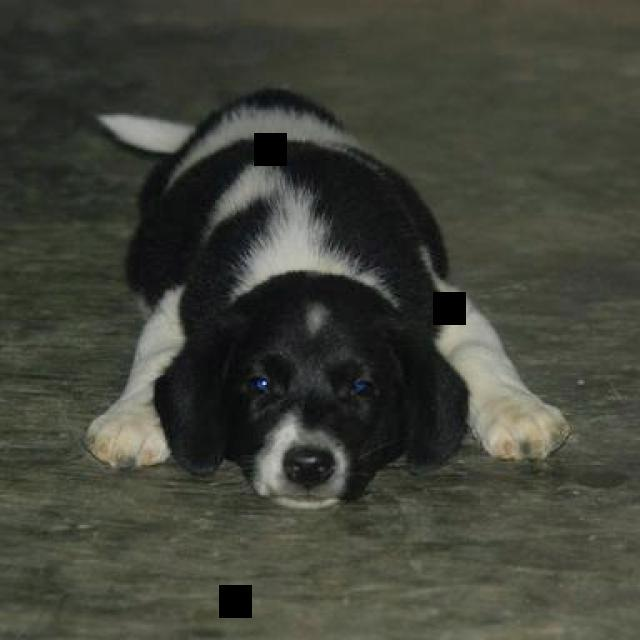puppy-dog: (87, 88, 576, 511)
